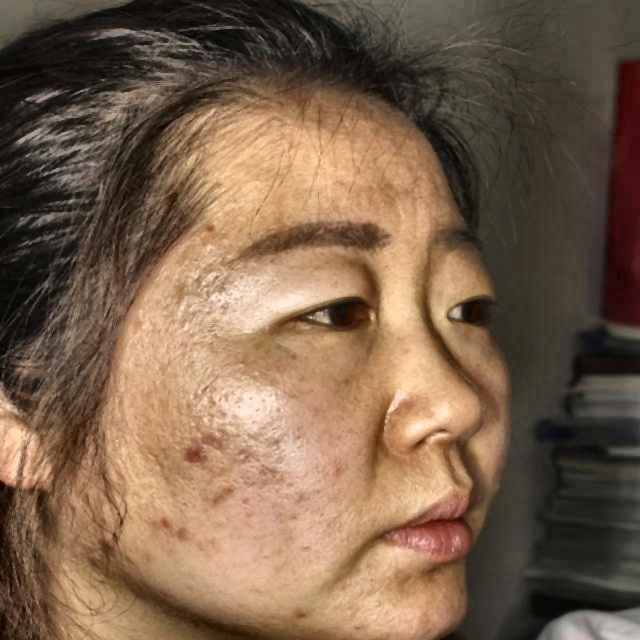pustule: (183, 443, 213, 468), (289, 602, 314, 626), (105, 532, 124, 556), (212, 485, 232, 506), (150, 508, 164, 534), (172, 523, 186, 546)
